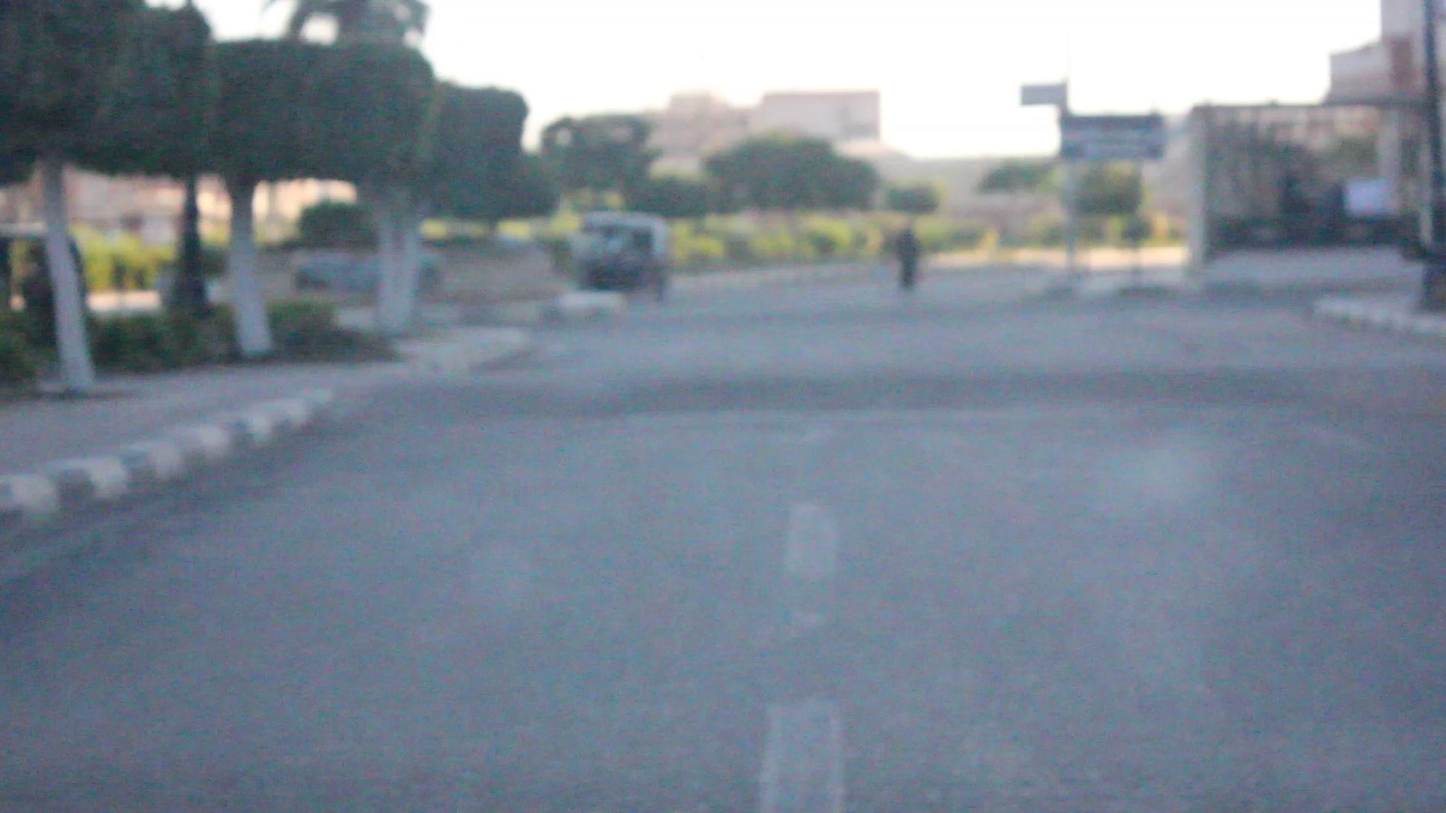Bump: (346, 359, 1446, 433)
